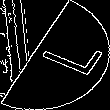L_NW: (16, 29, 94, 81)
